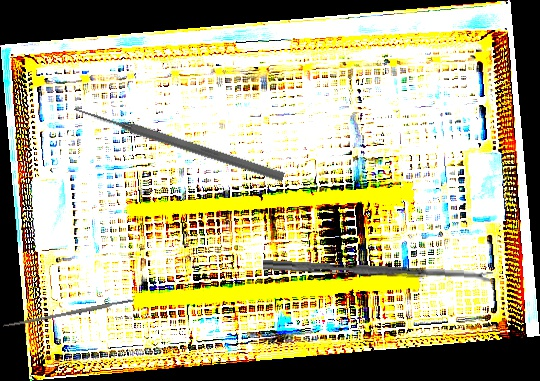Pusher: (72, 102, 286, 184)
Scalpel Handle: (2, 298, 135, 329)
Surgical Spoon: (262, 259, 494, 284)
